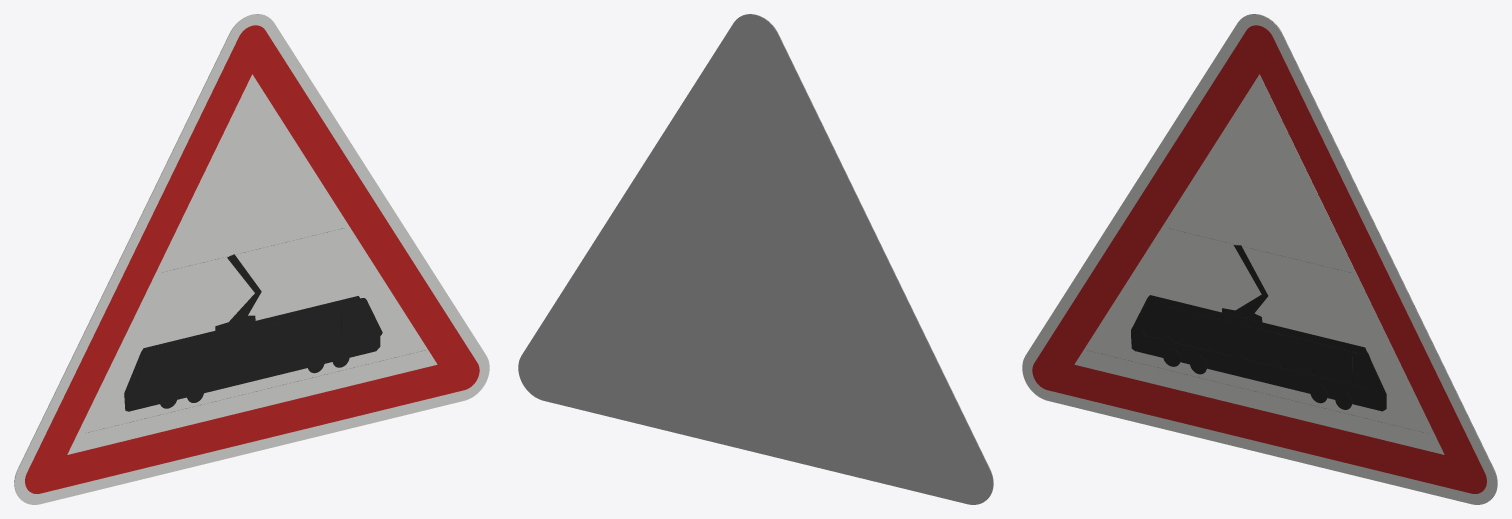
The picture shows the model from 3 angles, left to right: view 1: azimuth 30°, elevation 25°; view 2: azimuth 150°, elevation 25°; view 3: azimuth 330°, elevation 25°; orthographic projection.
Parts seen in each view (by area): view 1: A9_p02, A9_p01, A9_p00, A9_p05, A9_p04, A9_dos; view 2: A9_dos, A9_p00; view 3: A9_p02, A9_p01, A9_p00, A9_p05, A9_p04, A9_dos.
Boxes of the visible parts, bbox=[...] form: A9_p02: bbox=[67, 74, 437, 454]; A9_p01: bbox=[25, 25, 479, 493]; A9_p00: bbox=[14, 14, 489, 504]; A9_p05: bbox=[124, 296, 380, 411]; A9_p04: bbox=[215, 254, 261, 330]; A9_dos: bbox=[14, 14, 265, 500]; A9_dos: bbox=[518, 14, 993, 504]; A9_p00: bbox=[742, 14, 993, 500]; A9_p02: bbox=[1074, 74, 1444, 454]; A9_p01: bbox=[1032, 25, 1486, 493]; A9_p00: bbox=[1022, 14, 1497, 504]; A9_p05: bbox=[1131, 295, 1386, 411]; A9_p04: bbox=[1222, 245, 1268, 321]; A9_dos: bbox=[1246, 14, 1497, 500].
Size of the model in its own units: 1 by 0.8803 by 0.0119.
